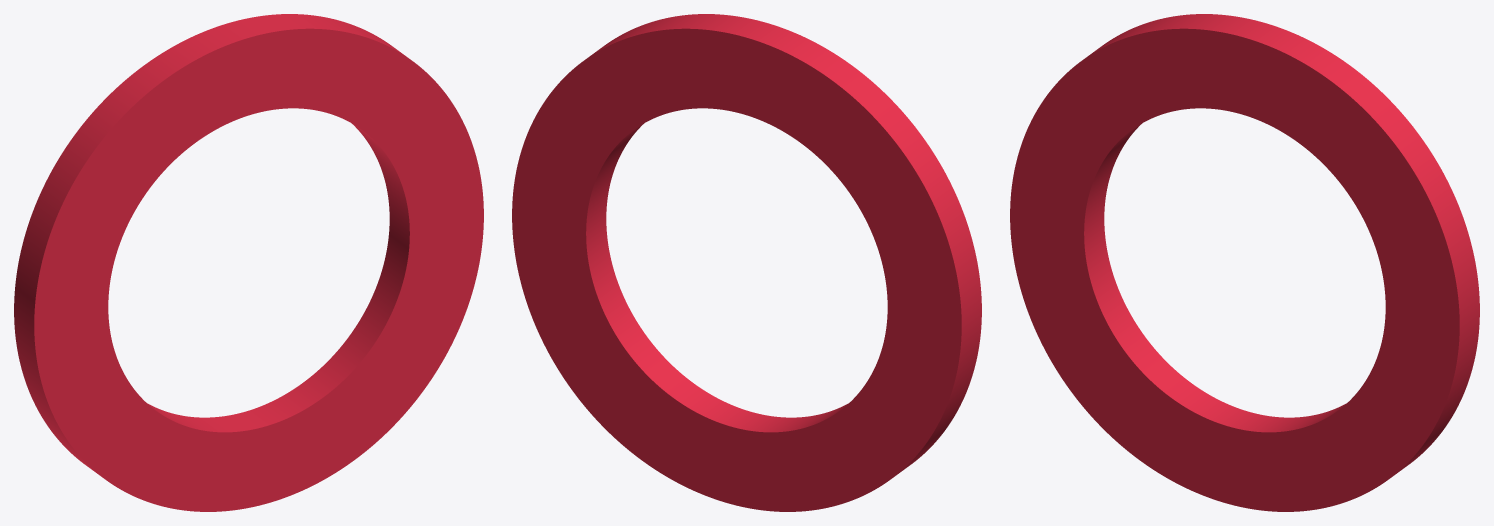
The model's file is kolko.glb.
3 renders of one model, left to right at view 1: azimuth 30°, elevation 25°; view 2: azimuth 150°, elevation 25°; view 3: azimuth 330°, elevation 25°, orthographic.
Visible parts, largest first — view 1: Cylinder; view 2: Cylinder; view 3: Cylinder.
Part boxes in pixels (<box>): Cylinder: <box>14,14,483,511</box>; Cylinder: <box>512,14,981,511</box>; Cylinder: <box>1010,14,1479,511</box>.
Bounding box in the file's own units: 4.02 × 4.02 × 0.3131.
